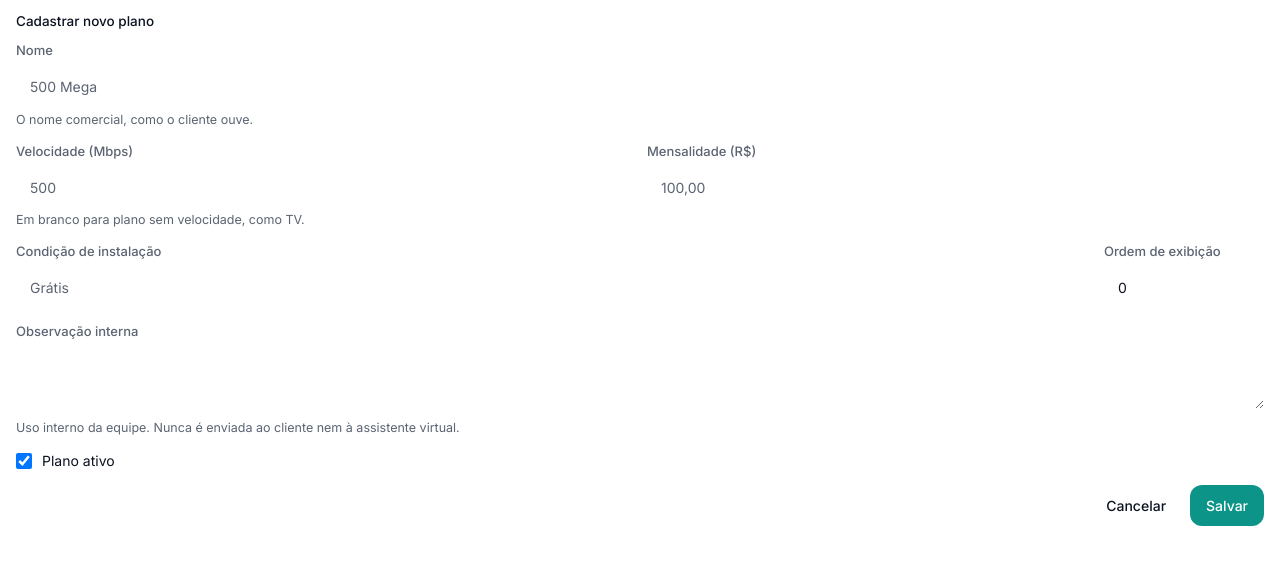
Test: PlanForm › falha da API vira mensagem, sem fechar o formulario
The width and height of the screenshot is (1280, 588).
Type "Teste" into the field labelled "Nome". click: [640, 87]
box: [16,67,1264,107]
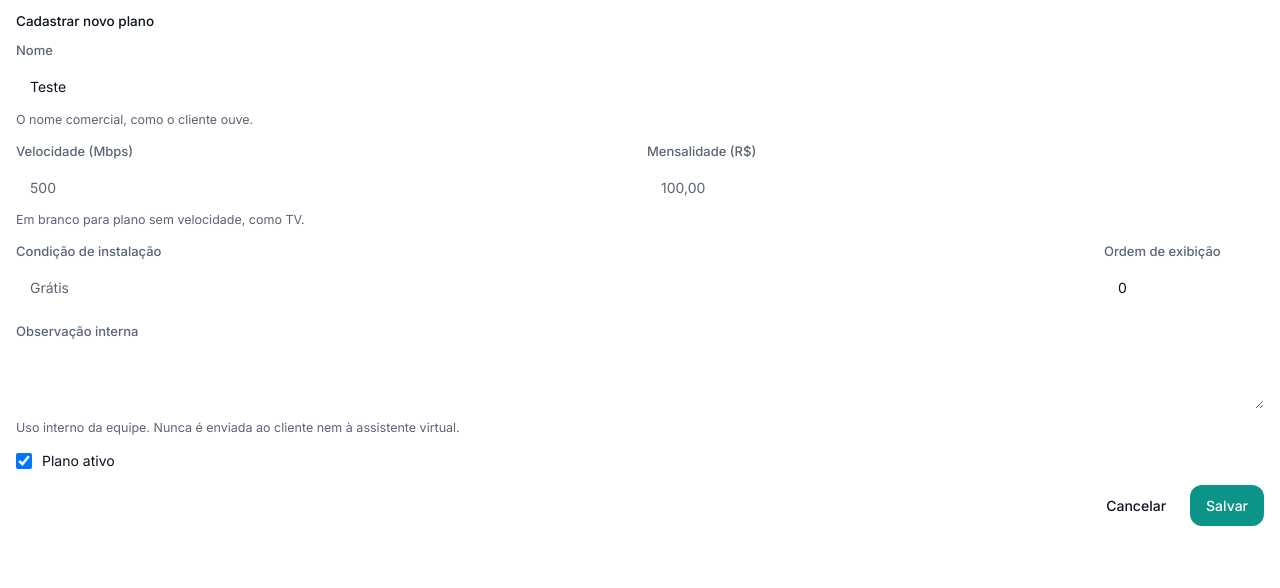
Type "100" into the field labelled "Mensalidade (R$)". click: [956, 187]
box: [647,167,1264,207]
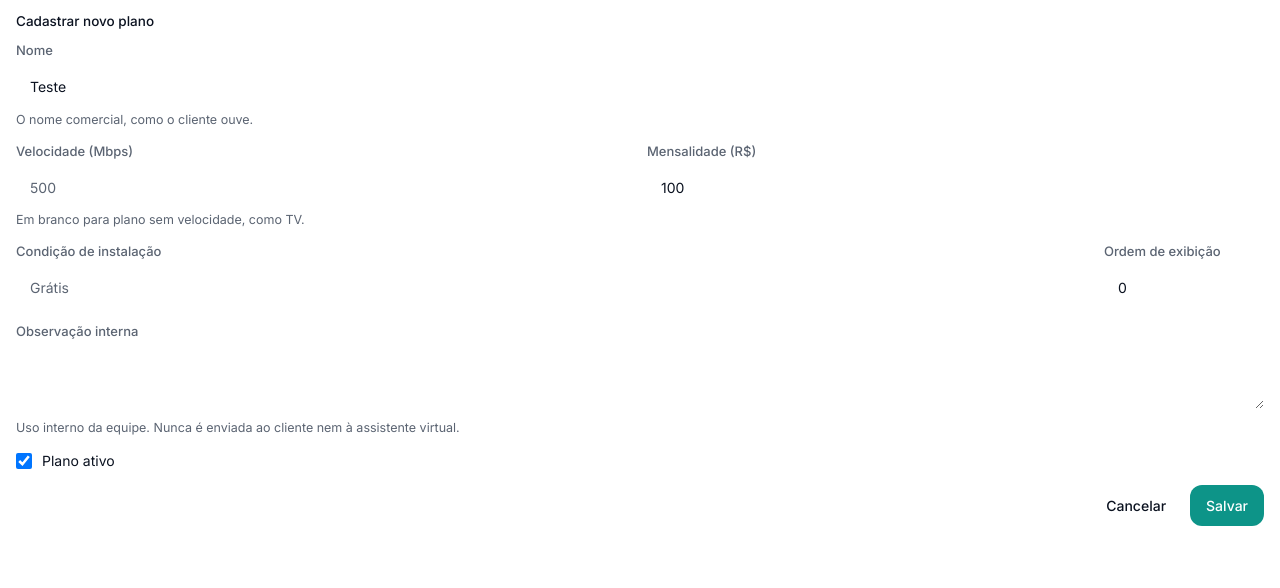
Click the button "Salvar". click: [1227, 506]
box: [1190,485,1264,526]
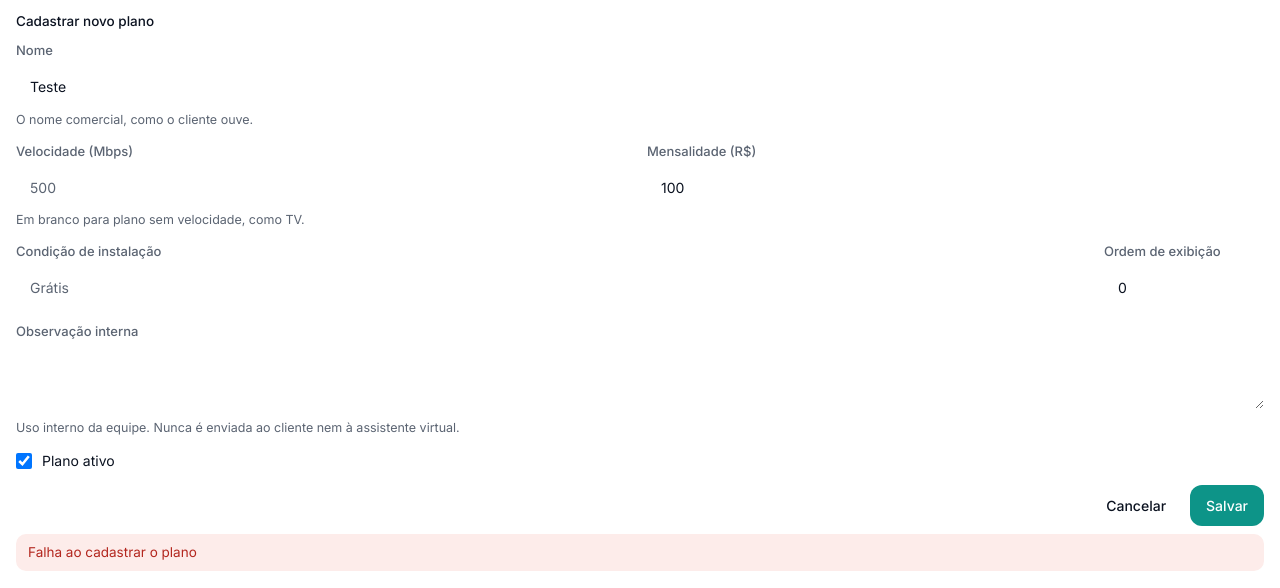
Now the message "Falha ao cadastrar o plano" is shown, box [16,534,1264,571]
